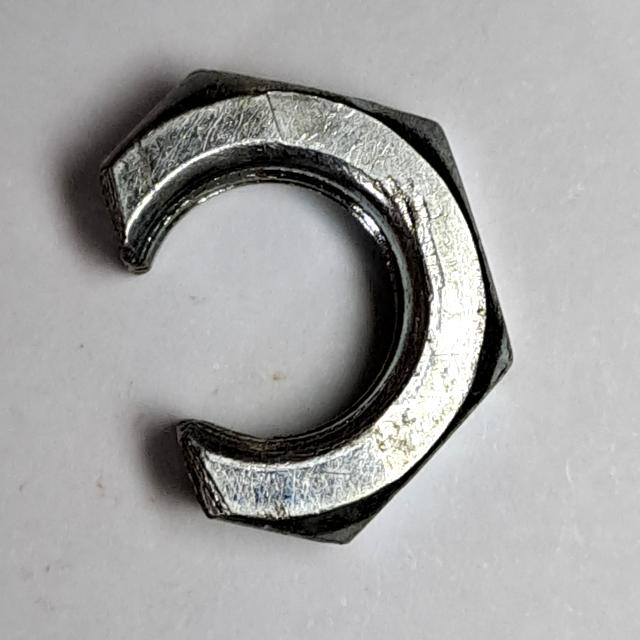Fracture: (77, 55, 529, 575)
